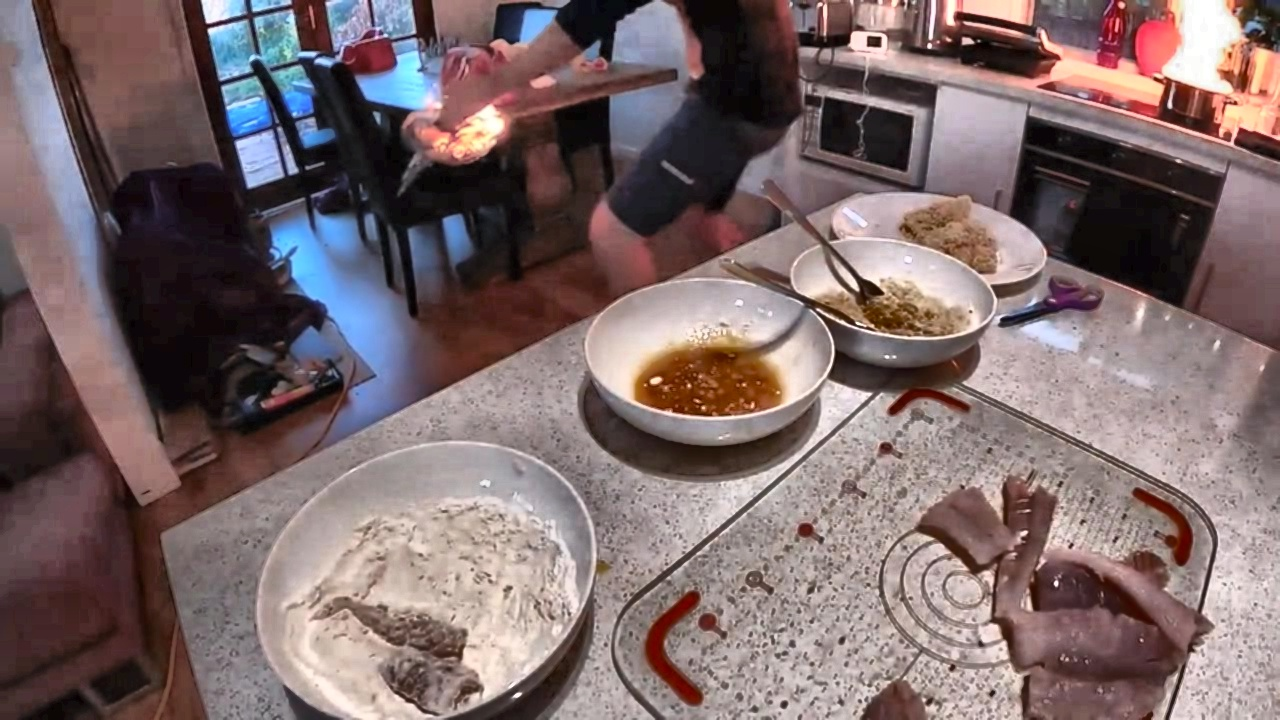fire: (1139, 1, 1260, 136)
